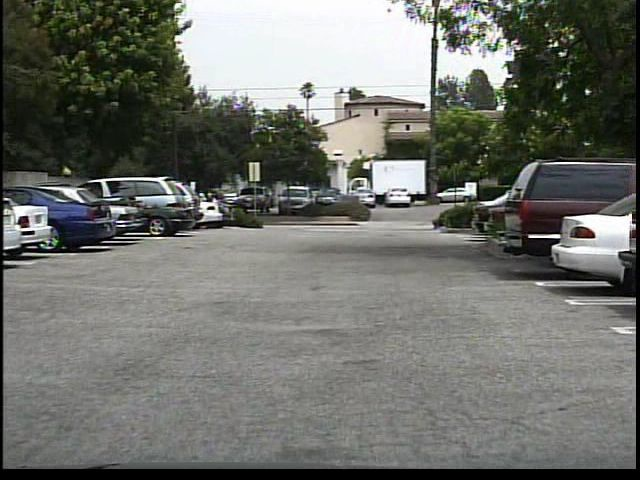person: (211, 192, 225, 223), (206, 191, 218, 221)
